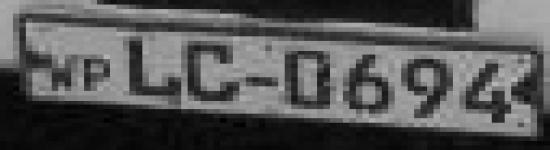-: (246, 73, 280, 92)
0: (282, 44, 336, 114)
4: (454, 57, 516, 125)
6: (336, 51, 395, 119)
9: (397, 54, 456, 122)
C: (184, 36, 243, 103)
L: (122, 32, 185, 100)
P: (80, 54, 114, 94)
W: (45, 51, 81, 93)
